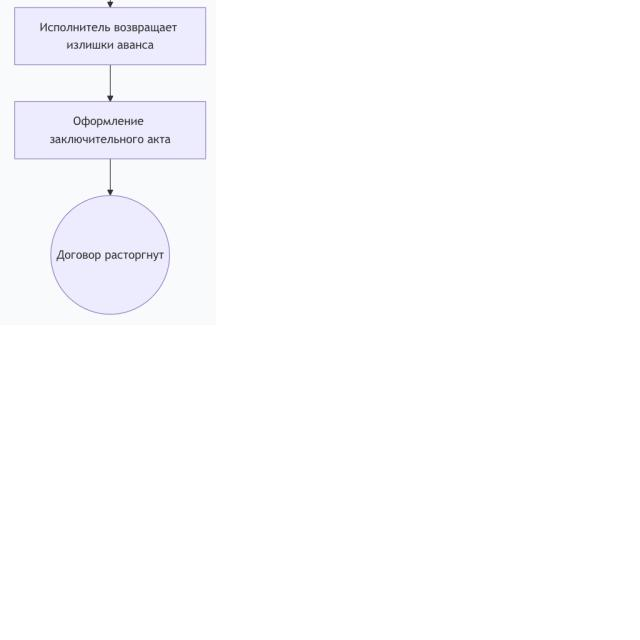arrow: (106, 65, 113, 101), (108, 160, 113, 195)
circle: (49, 192, 171, 316)
rectangle: (15, 7, 206, 65), (15, 102, 206, 159)
